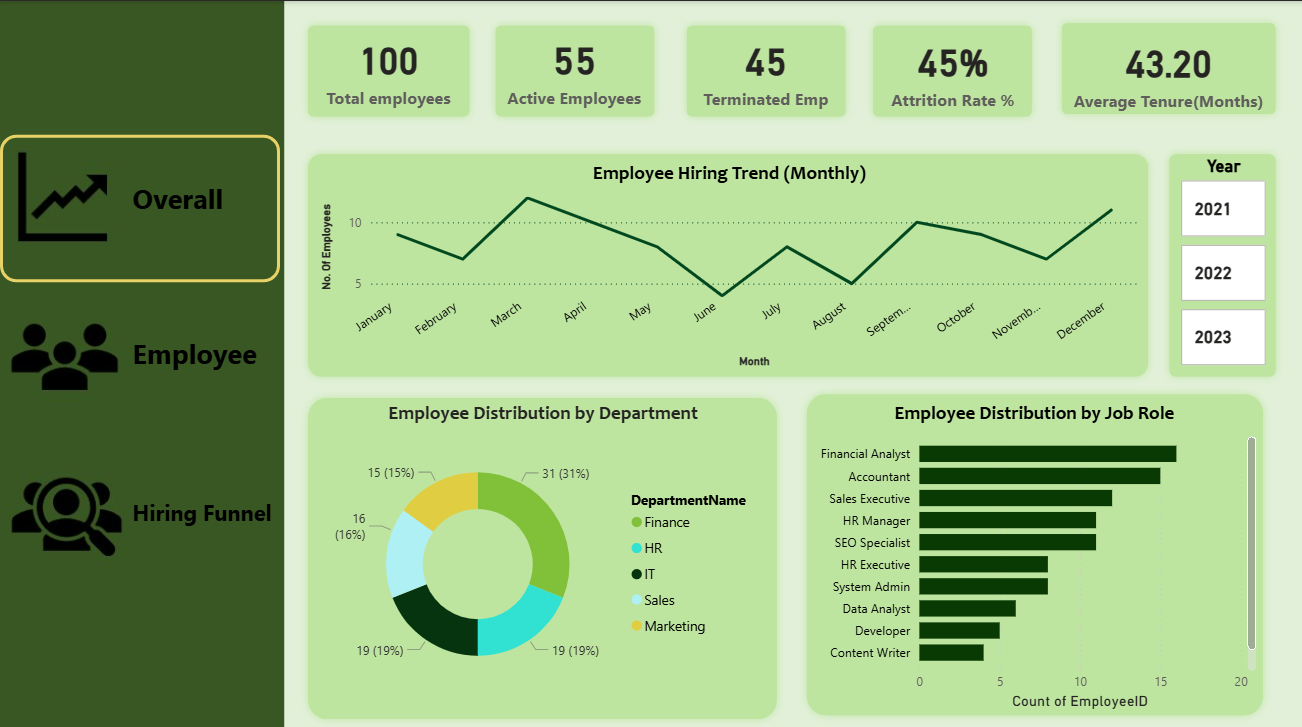

The page's visual inventory and layout, read from the dashboard file:
{"tool":"powerbi","page":{"name":"Page 2","canvas":[1280,720],"ordinal":0},"visuals":[{"type":"textbox","box":[125.2,170.6,120.2,49.1],"z":0},{"type":"textbox","box":[125.2,322.7,137.4,54],"z":1000},{"type":"textbox","box":[125.2,482.2,149.7,41.7],"z":2000},{"type":"actionButton","box":[0,276.1,274.8,146],"z":3000},{"type":"actionButton","box":[0,422.1,274.8,144.8],"z":4000},{"type":"shape","box":[294.5,16,174.2,105.5],"z":5000},{"type":"card","fields":{"Values":["Measures (2).Total emp"]},"box":[314.1,19.6,135,93.3],"z":6000},{"type":"shape","box":[478.5,16,171.8,105.5],"z":7000},{"type":"card","fields":{"Values":["Measures (2).Active Employees"]},"box":[487.1,20.9,153.4,92],"z":8000},{"type":"shape","box":[666.3,16,171.8,105.5],"z":9000},{"type":"shape","box":[849.1,16,171.8,105.5],"z":10000},{"type":"card","fields":{"Values":["Measures (2).Attrition rate %"]},"box":[868.7,28.2,133.7,81],"z":11000},{"type":"card","fields":{"Values":["Measures (2).Terminated Emp"]},"box":[679.8,22.1,144.8,90.8],"z":12000},{"type":"shape","box":[1034.4,13.5,225.8,105.5],"z":13000},{"type":"card","fields":{"Values":["Measures (2).Average Tenure(Months)"]},"box":[1046.6,22.1,201.2,94.5],"z":14000},{"type":"shape","box":[294.5,142.3,840.5,234.4],"z":15000},{"type":"lineChart","title":"Employee Hiring Trend (Monthly)","fields":{"Y":["CountNonNull(Emp_master.EmployeeID)"],"Category":["Emp_master.HireDate.Variation.Date Hierarchy.Year","Emp_master.HireDate.Variation.Date Hierarchy.Month"]},"box":[310.4,157.1,811,207.4],"z":16000},{"type":"shape","box":[1139.9,142.3,120.2,234.4],"z":17000},{"type":"advancedSlicerVisual","fields":{"Values":["Emp_master.Year"]},"box":[1154.6,152.1,93.3,212.3],"z":18000},{"type":"shape","box":[784.1,377.9,463.8,331.3],"z":19000},{"type":"clusteredBarChart","title":"Employee Distribution by Job Role","fields":{"Category":["Emp_master.JobRole"],"Y":["CountNonNull(Emp_master.EmployeeID)"]},"box":[792.6,392.6,445.4,308],"z":20000},{"type":"shape","box":[294.5,381.6,476.1,331.3],"z":21000},{"type":"donutChart","title":"Employee Distribution by Department","fields":{"Category":["dept.DepartmentName"],"Y":["CountNonNull(Emp_master.EmployeeID)"]},"box":[314.1,392.6,438,298.2],"z":22000},{"type":"actionButton","box":[0,131.3,274.8,144.8],"z":23000}]}

Visuals, with their boxes in screenshot pixels (x1, y1, x2, y2), scaled from the page's 1280x720 canvas onto the 1302x727 screenshot:
textbox: detection(127, 172, 250, 222)
textbox: detection(127, 326, 267, 380)
textbox: detection(127, 487, 280, 529)
actionButton: detection(0, 279, 280, 426)
actionButton: detection(0, 426, 280, 572)
shape: detection(300, 16, 477, 123)
card - Measures (2).Total emp: detection(319, 20, 457, 114)
shape: detection(487, 16, 661, 123)
card - Measures (2).Active Employees: detection(495, 21, 652, 114)
shape: detection(678, 16, 853, 123)
shape: detection(864, 16, 1038, 123)
card - Measures (2).Attrition rate %: detection(884, 28, 1020, 110)
card - Measures (2).Terminated Emp: detection(691, 22, 839, 114)
shape: detection(1052, 14, 1282, 120)
card - Measures (2).Average Tenure(Months): detection(1065, 22, 1269, 118)
shape: detection(300, 144, 1155, 380)
"Employee Hiring Trend (Monthly)" lineChart: detection(316, 159, 1141, 368)
shape: detection(1159, 144, 1282, 380)
advancedSlicerVisual - Emp_master.Year: detection(1174, 154, 1269, 368)
shape: detection(798, 382, 1269, 716)
"Employee Distribution by Job Role" clusteredBarChart: detection(806, 396, 1259, 707)
shape: detection(300, 385, 784, 720)
"Employee Distribution by Department" donutChart: detection(319, 396, 765, 698)
actionButton: detection(0, 133, 280, 279)
